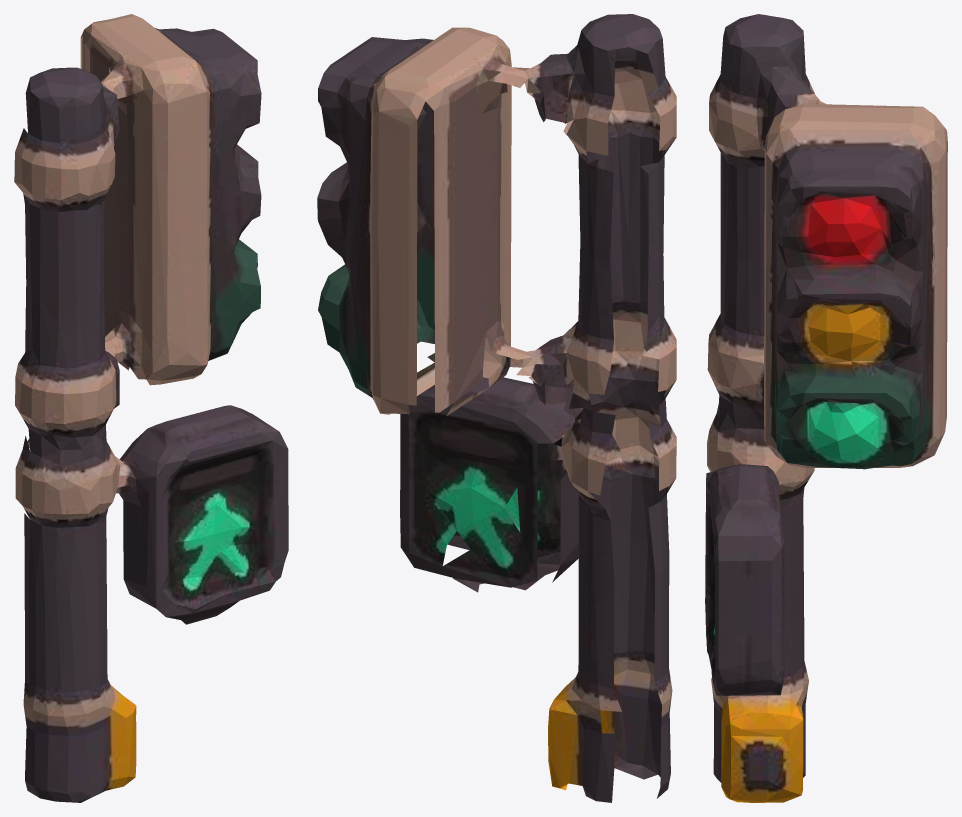
The model's file is M-10_03_trafficlight.glb.
3 views of the same model, side by side, from view 1: azimuth 30°, elevation 25°; view 2: azimuth 150°, elevation 25°; view 3: azimuth 270°, elevation 25° (orthographic). The views are drawn at different scales.
Parts seen in each view (by area): view 1: loA; view 2: loA; view 3: loA.
Part boxes in pixels (<box>): loA: <box>14,14,288,802</box>; loA: <box>317,14,676,802</box>; loA: <box>705,14,947,802</box>.
Size of the model in its own units: 1.97 by 5.2 by 1.51.
1 material, 1 textured.
